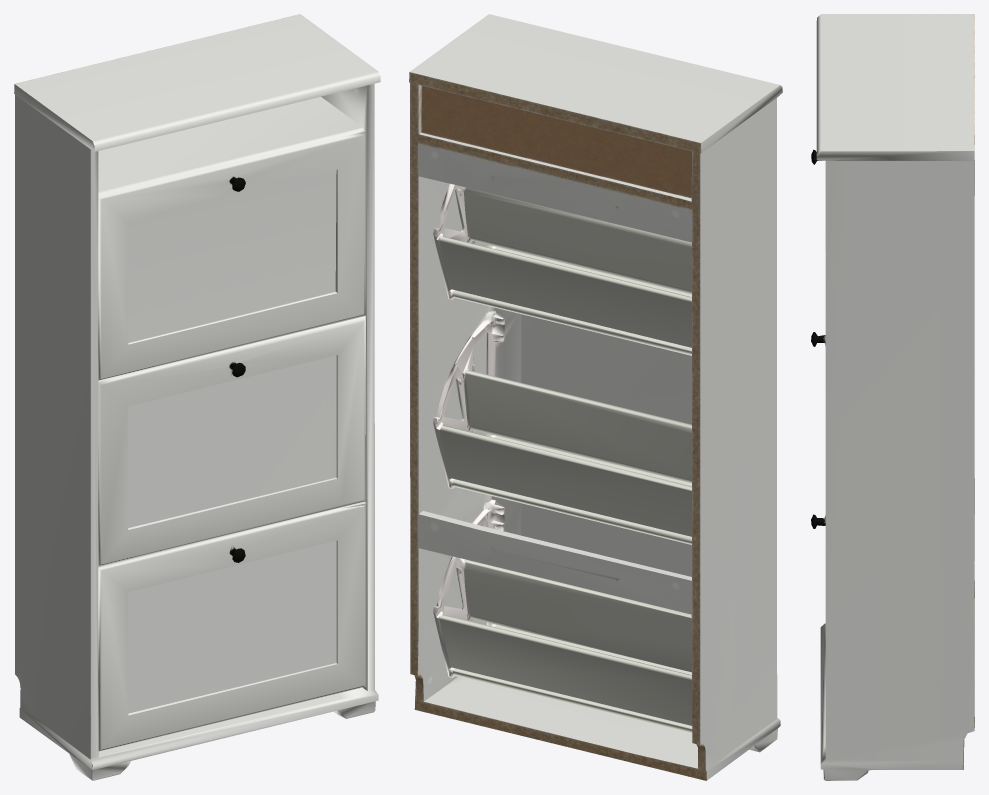
Rendered from brusali_szafka_na_buty_3_przegrody_80480393.glb.
3 views of the same model, side by side, from view 1: azimuth 30°, elevation 25°; view 2: azimuth 150°, elevation 25°; view 3: azimuth 270°, elevation 25° (orthographic). The views are drawn at different scales.
Parts seen in each view (by area): view 1: brusali_szafka_na_buty_3_przegrody_80480393; view 2: brusali_szafka_na_buty_3_przegrody_80480393; view 3: brusali_szafka_na_buty_3_przegrody_80480393.
Boxes of the visible parts, x1,y1,x2,y2 form: brusali_szafka_na_buty_3_przegrody_80480393: (14, 14, 380, 780); brusali_szafka_na_buty_3_przegrody_80480393: (409, 14, 782, 780); brusali_szafka_na_buty_3_przegrody_80480393: (811, 14, 974, 780).
Bounding box in the file's own units: 0.605 × 1.3 × 0.3049.
1 material, 1 textured.
